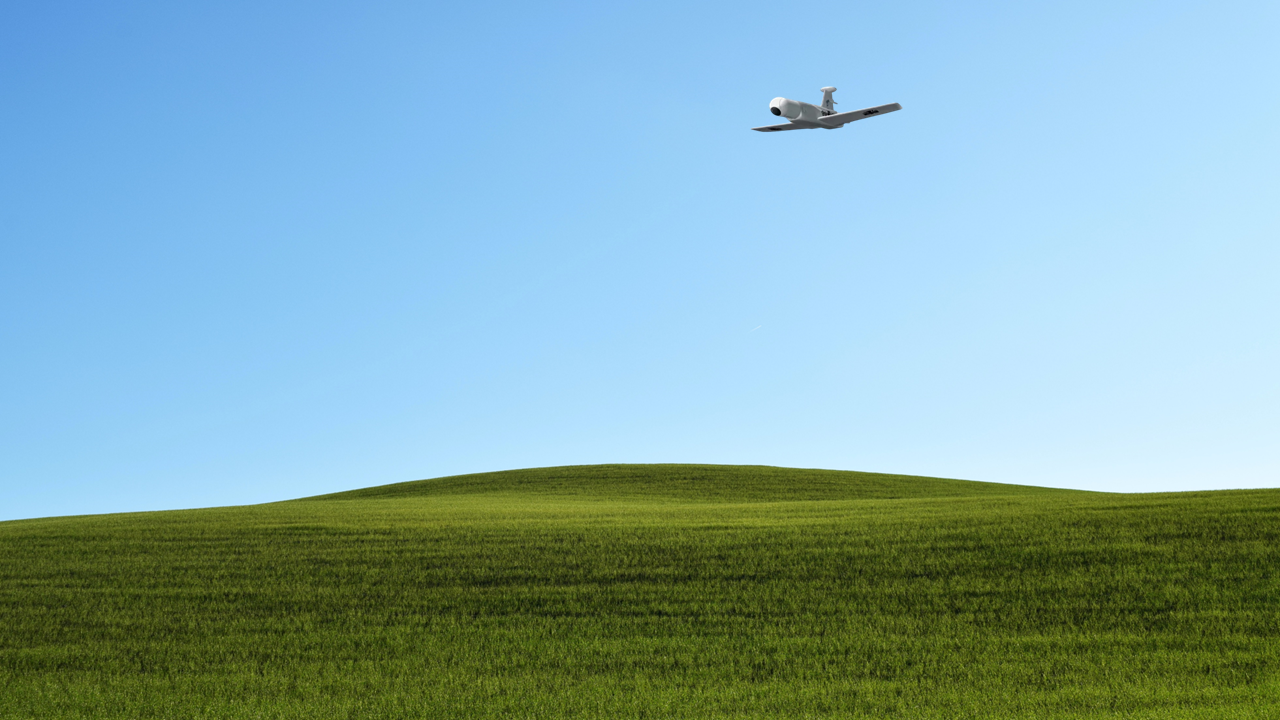military drone: (750, 85, 902, 132)
